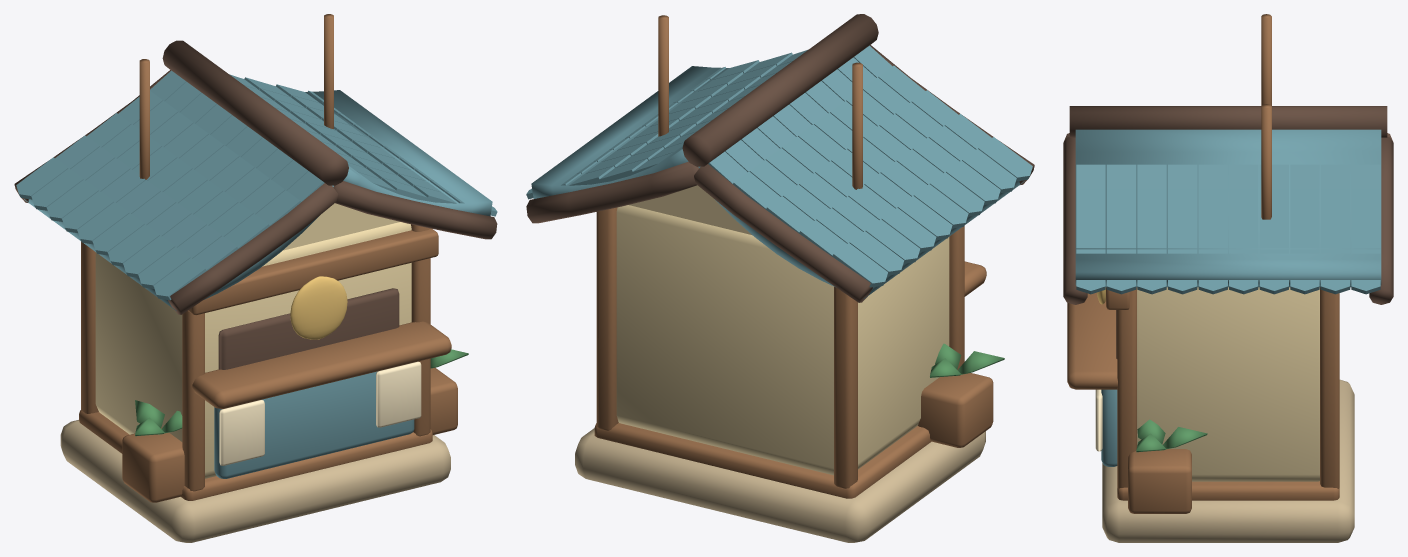
Rendered from booth_pier.glb.
The picture shows the model from 3 angles, left to right: view 1: azimuth 30°, elevation 25°; view 2: azimuth 150°, elevation 25°; view 3: azimuth 270°, elevation 25°; orthographic projection. The views are drawn at different scales.
Parts seen in each view (by area): view 1: booth_pier_crafted_mesh; view 2: booth_pier_crafted_mesh; view 3: booth_pier_crafted_mesh.
Part boxes in pixels (left/top/right/bottom): booth_pier_crafted_mesh: left=14, top=14, right=497, bottom=542; booth_pier_crafted_mesh: left=526, top=14, right=1034, bottom=542; booth_pier_crafted_mesh: left=1063, top=14, right=1393, bottom=542.
Bounding box in the file's own units: 2.57 × 3.05 × 2.17.
